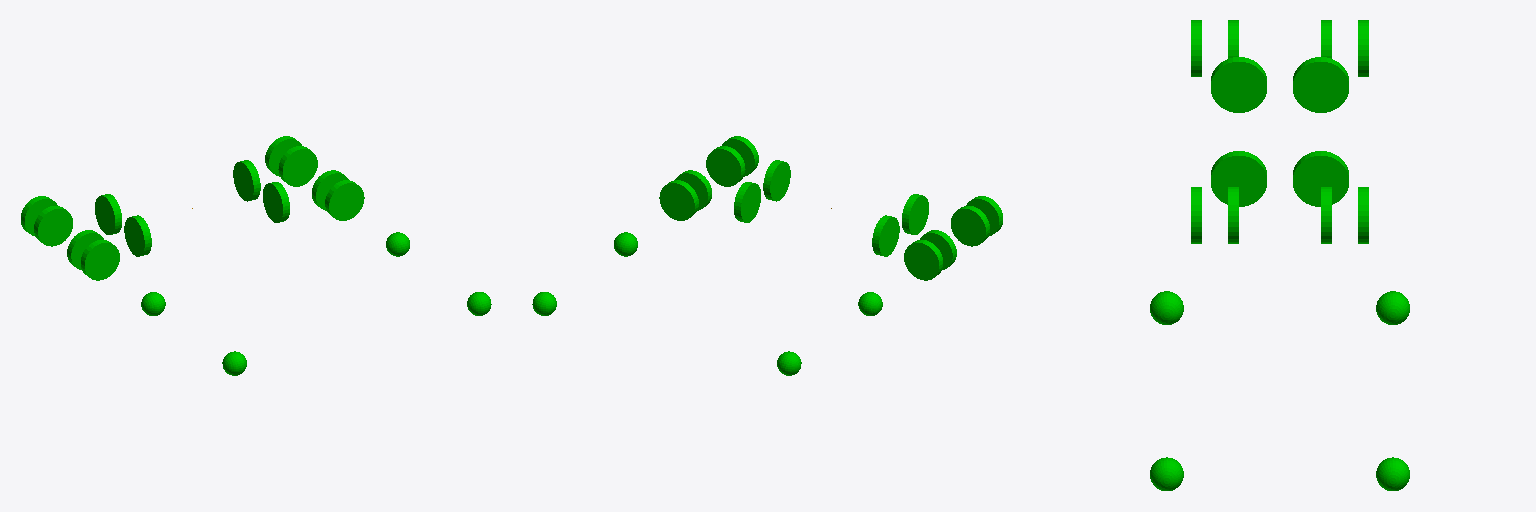
--- Render facts (derived) ---
3 views of the same robot in one strip: view 1: azimuth 30°, elevation 25°; view 2: azimuth 150°, elevation 25°; view 3: azimuth 270°, elevation 25° (orthographic).
Robot: b1_description — 36 links, 35 joints (12 revolute, 23 fixed); root link base; default pose: all joints at 0 but 4 set to mid-range because 0 is outside their limits (FR_calf_joint = -1.6, FL_calf_joint = -1.6, RR_calf_joint = -1.6, RL_calf_joint = -1.6).
Links seen in each view (by area): view 1: FR_calf_rotor, RR_calf_rotor, FL_thigh_rotor, RL_thigh_rotor, FL_hip_rotor, RR_hip_rotor, RL_hip_rotor, FR_hip_rotor, FL_calf_rotor, RR_thigh_rotor, FR_thigh_rotor, RL_calf_rotor; view 2: FL_calf_rotor, RL_calf_rotor, FR_thigh_rotor, RR_thigh_rotor, FR_hip_rotor, RL_hip_rotor, RR_hip_rotor, FL_hip_rotor, FR_calf_rotor, RL_thigh_rotor, FL_thigh_rotor, RR_calf_rotor; view 3: RR_hip_rotor, RL_hip_rotor, FR_hip_rotor, FL_hip_rotor, RR_foot, RL_foot, FR_foot, FL_foot, FR_thigh_rotor, FR_calf_rotor, FL_thigh_rotor, FL_calf_rotor (+2 smaller).
Boxes of the visible links, x1,y1,x2,y2 form: FR_calf_rotor: (325,180,364,220); RR_calf_rotor: (81,240,119,280); FL_thigh_rotor: (278,146,317,186); RL_thigh_rotor: (34,206,72,246); FL_hip_rotor: (233,160,260,201); RR_hip_rotor: (124,215,151,256); RL_hip_rotor: (95,194,121,234); FR_hip_rotor: (263,182,289,222); FL_calf_rotor: (265,136,301,176); RR_thigh_rotor: (67,230,103,269); FR_thigh_rotor: (312,170,348,210); RL_calf_rotor: (21,196,57,236); FL_calf_rotor: (659,180,698,220); RL_calf_rotor: (904,240,942,280); FR_thigh_rotor: (706,146,745,186); RR_thigh_rotor: (951,206,989,246); FR_hip_rotor: (763,160,790,201); RL_hip_rotor: (872,215,899,256); RR_hip_rotor: (902,194,928,234); FL_hip_rotor: (734,182,760,222); FR_calf_rotor: (722,136,758,176); RL_thigh_rotor: (920,230,956,269); FL_thigh_rotor: (675,170,711,210); RR_calf_rotor: (966,196,1002,236); RR_hip_rotor: (1211,57,1266,112); RL_hip_rotor: (1293,57,1348,112); FR_hip_rotor: (1211,151,1266,206); FL_hip_rotor: (1293,151,1348,206); RR_foot: (1150,291,1183,324); RL_foot: (1376,291,1409,324); FR_foot: (1150,457,1183,490); FL_foot: (1376,457,1409,490); FR_thigh_rotor: (1228,187,1238,243); FR_calf_rotor: (1191,187,1201,243); FL_thigh_rotor: (1321,187,1331,243); FL_calf_rotor: (1358,187,1368,243).
Bounding box of the posed robot: 1.12 × 0.4575 × 0.4198 m (x, y, z).
Meshes: 5 distinct files referenced, 0 mesh visuals loaded (none loaded); not drawn: 13 (reference not matched to a file when rendering).

The robot description file, URDF, robot "b1_description":
<?xml version="1.0" ?>
<!-- =================================================================================== -->
<!-- |    This document was autogenerated by xacro from robot.xacro                    | -->
<!-- |    EDITING THIS FILE BY HAND IS NOT RECOMMENDED                                 | -->
<!-- =================================================================================== -->
<robot name="b1_description">
  <material name="black">
    <color rgba="0.0 0.0 0.0 1.0"/>
  </material>
  <material name="blue">
    <color rgba="0.0 0.0 0.8 1.0"/>
  </material>
  <material name="green">
    <color rgba="0.0 0.8 0.0 1.0"/>
  </material>
  <material name="grey">
    <color rgba="0.2 0.2 0.2 1.0"/>
  </material>
  <material name="silver">
    <color rgba="0.9137254901960784 0.9137254901960784 0.8470588235294118 1.0"/>
  </material>
  <material name="orange">
    <color rgba="1.0 0.4235294117647059 0.0392156862745098 1.0"/>
  </material>
  <material name="brown">
    <color rgba="0.8705882352941177 0.8117647058823529 0.7647058823529411 1.0"/>
  </material>
  <material name="red">
    <color rgba="0.8 0.0 0.0 1.0"/>
  </material>
  <material name="white">
    <color rgba="1.0 1.0 1.0 1.0"/>
  </material>
  <!-- ros_control plugin -->
  <gazebo>
    <plugin filename="libgazebo_ros_control.so" name="gazebo_ros_control">
      <robotNamespace>/aliengo_gazebo</robotNamespace>
      <robotSimType>gazebo_ros_control/DefaultRobotHWSim</robotSimType>
    </plugin>
  </gazebo>
  <!-- Show the trajectory of trunk center. -->
  <gazebo>
    <plugin filename="libLinkPlot3DPlugin.so" name="3dplot">
      <frequency>10</frequency>
      <plot>
        <link>base</link>
        <pose>0 0 0 0 0 0</pose>
        <material>Gazebo/Yellow</material>
      </plot>
    </plugin>
  </gazebo>
  <!-- Show the trajectory of foot. You can add another trajectory about another foot. -->
  <!-- <gazebo>
        <plugin name="3dplot" filename="libLinkPlot3DPlugin.so">
            <frequency>100</frequency>
            <plot>
                <link>FL_foot</link>
                <pose>0 0 0 0 0 0</pose>
                <material>Gazebo/Green</material>
            </plot>
        </plugin>
    </gazebo> -->
  <gazebo>
    <plugin filename="libgazebo_ros_force.so" name="gazebo_ros_force">
      <bodyName>trunk</bodyName>
      <topicName>/apply_force/trunk</topicName>
    </plugin>
  </gazebo>
  <gazebo reference="imu_link">
    <gravity>true</gravity>
    <sensor name="imu_sensor" type="imu">
      <always_on>true</always_on>
      <update_rate>1000</update_rate>
      <visualize>true</visualize>
      <topic>__default_topic__</topic>
      <plugin filename="libgazebo_ros_imu_sensor.so" name="imu_plugin">
        <topicName>trunk_imu</topicName>
        <bodyName>imu_link</bodyName>
        <updateRateHZ>1000.0</updateRateHZ>
        <gaussianNoise>0.0</gaussianNoise>
        <xyzOffset>0 0 0</xyzOffset>
        <rpyOffset>0 0 0</rpyOffset>
        <frameName>imu_link</frameName>
      </plugin>
      <pose>0 0 0 0 0 0</pose>
    </sensor>
  </gazebo>
  <!-- Foot contacts. -->
  <gazebo reference="FR_calf">
    <sensor name="FR_foot_contact" type="contact">
      <update_rate>100</update_rate>
      <plugin filename="libunitreeFootContactPlugin.so" name="contactPlugin"/>
      <contact>
        <collision>FR_calf_fixed_joint_lump__FR_foot_collision_1</collision>
      </contact>
    </sensor>
  </gazebo>
  <gazebo reference="FL_calf">
    <sensor name="FL_foot_contact" type="contact">
      <update_rate>100</update_rate>
      <plugin filename="libunitreeFootContactPlugin.so" name="contactPlugin"/>
      <contact>
        <collision>FL_calf_fixed_joint_lump__FL_foot_collision_1</collision>
      </contact>
    </sensor>
  </gazebo>
  <gazebo reference="RR_calf">
    <sensor name="RR_foot_contact" type="contact">
      <update_rate>100</update_rate>
      <plugin filename="libunitreeFootContactPlugin.so" name="contactPlugin"/>
      <contact>
        <collision>RR_calf_fixed_joint_lump__RR_foot_collision_1</collision>
      </contact>
    </sensor>
  </gazebo>
  <gazebo reference="RL_calf">
    <sensor name="RL_foot_contact" type="contact">
      <update_rate>100</update_rate>
      <plugin filename="libunitreeFootContactPlugin.so" name="contactPlugin"/>
      <contact>
        <collision>RL_calf_fixed_joint_lump__RL_foot_collision_1</collision>
      </contact>
    </sensor>
  </gazebo>
  <!-- Visualization of Foot contacts. -->
  <gazebo reference="FR_foot">
    <visual>
      <plugin filename="libunitreeDrawForcePlugin.so" name="drawForcePlugin">
        <topicName>FR_foot_contact</topicName>
      </plugin>
    </visual>
  </gazebo>
  <gazebo reference="FL_foot">
    <visual>
      <plugin filename="libunitreeDrawForcePlugin.so" name="drawForcePlugin">
        <topicName>FL_foot_contact</topicName>
      </plugin>
    </visual>
  </gazebo>
  <gazebo reference="RR_foot">
    <visual>
      <plugin filename="libunitreeDrawForcePlugin.so" name="drawForcePlugin">
        <topicName>RR_foot_contact</topicName>
      </plugin>
    </visual>
  </gazebo>
  <gazebo reference="RL_foot">
    <visual>
      <plugin filename="libunitreeDrawForcePlugin.so" name="drawForcePlugin">
        <topicName>RL_foot_contact</topicName>
      </plugin>
    </visual>
  </gazebo>
  <gazebo reference="base">
    <material>Gazebo/Green</material>
    <turnGravityOff>false</turnGravityOff>
  </gazebo>
  <gazebo reference="trunk">
    <mu1>0.2</mu1>
    <mu2>0.2</mu2>
    <kp value="1000000.0"/>
    <kd value="1.0"/>
  </gazebo>
  <gazebo reference="stick_link">
    <mu1>0.2</mu1>
    <mu2>0.2</mu2>
    <material>Gazebo/White</material>
  </gazebo>
  <gazebo reference="imu_link">
    <mu1>0.2</mu1>
    <mu2>0.2</mu2>
    <material>Gazebo/Red</material>
  </gazebo>
  <!-- FL leg -->
  <gazebo reference="FL_hip">
    <mu1>0.2</mu1>
    <mu2>0.2</mu2>
    <material>Gazebo/DarkGrey</material>
  </gazebo>
  <gazebo reference="FL_thigh">
    <mu1>0.2</mu1>
    <mu2>0.2</mu2>
    <self_collide>1</self_collide>
    <material>Gazebo/DarkGrey</material>
    <kp value="1000000.0"/>
    <kd value="1.0"/>
  </gazebo>
  <gazebo reference="FL_calf">
    <mu1>0.2</mu1>
    <mu2>0.2</mu2>
    <self_collide>1</self_collide>
  </gazebo>
  <gazebo reference="FL_foot">
    <mu1>0.6</mu1>
    <mu2>0.6</mu2>
    <self_collide>1</self_collide>
    <material>Gazebo/DarkGrey</material>
    <kp value="1000000.0"/>
    <kd value="1.0"/>
  </gazebo>
  <!-- FR leg -->
  <gazebo reference="FR_hip">
    <mu1>0.2</mu1>
    <mu2>0.2</mu2>
    <material>Gazebo/DarkGrey</material>
  </gazebo>
  <gazebo reference="FR_thigh">
    <mu1>0.2</mu1>
    <mu2>0.2</mu2>
    <self_collide>1</self_collide>
    <material>Gazebo/DarkGrey</material>
    <kp value="1000000.0"/>
    <kd value="1.0"/>
  </gazebo>
  <gazebo reference="FR_calf">
    <mu1>0.2</mu1>
    <mu2>0.2</mu2>
    <self_collide>1</self_collide>
  </gazebo>
  <gazebo reference="FR_foot">
    <mu1>0.6</mu1>
    <mu2>0.6</mu2>
    <self_collide>1</self_collide>
    <material>Gazebo/DarkGrey</material>
    <kp value="1000000.0"/>
    <kd value="1.0"/>
  </gazebo>
  <!-- RL leg -->
  <gazebo reference="RL_hip">
    <mu1>0.2</mu1>
    <mu2>0.2</mu2>
    <material>Gazebo/DarkGrey</material>
  </gazebo>
  <gazebo reference="RL_thigh">
    <mu1>0.2</mu1>
    <mu2>0.2</mu2>
    <self_collide>1</self_collide>
    <material>Gazebo/DarkGrey</material>
    <kp value="1000000.0"/>
    <kd value="1.0"/>
  </gazebo>
  <gazebo reference="RL_calf">
    <mu1>0.2</mu1>
    <mu2>0.2</mu2>
    <self_collide>1</self_collide>
  </gazebo>
  <gazebo reference="RL_foot">
    <mu1>0.6</mu1>
    <mu2>0.6</mu2>
    <self_collide>1</self_collide>
    <material>Gazebo/DarkGrey</material>
    <kp value="1000000.0"/>
    <kd value="1.0"/>
  </gazebo>
  <!-- RR leg -->
  <gazebo reference="RR_hip">
    <mu1>0.2</mu1>
    <mu2>0.2</mu2>
    <material>Gazebo/DarkGrey</material>
  </gazebo>
  <gazebo reference="RR_thigh">
    <mu1>0.2</mu1>
    <mu2>0.2</mu2>
    <self_collide>1</self_collide>
    <material>Gazebo/DarkGrey</material>
    <kp value="1000000.0"/>
    <kd value="1.0"/>
  </gazebo>
  <gazebo reference="RR_calf">
    <mu1>0.2</mu1>
    <mu2>0.2</mu2>
    <self_collide>1</self_collide>
  </gazebo>
  <gazebo reference="RR_foot">
    <mu1>0.6</mu1>
    <mu2>0.6</mu2>
    <self_collide>1</self_collide>
    <material>Gazebo/DarkGrey</material>
    <kp value="1000000.0"/>
    <kd value="1.0"/>
  </gazebo>
  <!-- Rotor related joint and link is only for demonstrate location. -->
  <!-- Actually, the rotor will rotate and the joint is not fixed. Reduction ratio should be considered. -->
  <!-- Debug mode will hung up the robot, use "true" or "false" to switch it. -->
  <!-- <xacro:if value="$(arg DEBUG)">
        <link name="world"/>
        <joint name="base_static_joint" type="fixed">
            <origin rpy="0 0 0" xyz="0 0 0"/>
            <parent link="world"/>
            <child link="base"/>
        </joint>
    </xacro:if>  -->
  <link name="base">
    <visual>
      <origin rpy="0 0 0" xyz="0 0 0"/>
      <geometry>
        <box size="0.001 0.001 0.001"/>
      </geometry>
    </visual>
  </link>
  <joint name="floating_base" type="fixed">
    <origin rpy="0 0 0" xyz="0 0 0"/>
    <parent link="base"/>
    <child link="trunk"/>
  </joint>
  <link name="trunk">
    <visual>
      <origin rpy="0 0 0" xyz="0 0 0"/>
      <geometry>
        <mesh filename="package://meshes/trunkb.dae" scale="1 1 1"/>
      </geometry>
      <material name="orange"/>
    </visual>
    <collision>
      <origin rpy="0 0 0" xyz="0 0 0"/>
      <geometry>
        <mesh filename="package://meshes/trunkb.dae" scale="1 1 1"/>
      </geometry>
    </collision>
    <inertial>
      <origin rpy="0 0 0" xyz="0.008987 0.002243 0.003013"/>
      <mass value="29.45"/>
      <inertia ixx="0.183142146" ixy="-0.001379002" ixz="-0.027956055" iyy="0.756327752" iyz="0.000193774" izz="0.783777558"/>
    </inertial>
  </link>
  <joint name="imu_joint" type="fixed">
    <parent link="trunk"/>
    <child link="imu_link"/>
    <origin rpy="0 0 0" xyz="0 0 0"/>
  </joint>
  <link name="imu_link">
    <inertial>
      <mass value="0.001"/>
      <origin rpy="0 0 0" xyz="0 0 0"/>
      <inertia ixx="0.0001" ixy="0" ixz="0" iyy="0.000001" iyz="0" izz="0.0001"/>
    </inertial>
    <visual>
      <origin rpy="0 0 0" xyz="0 0 0"/>
      <geometry>
        <box size="0.001 0.001 0.001"/>
      </geometry>
      <material name="red"/>
    </visual>
    <collision>
      <origin rpy="0 0 0" xyz="0 0 0"/>
      <geometry>
        <box size=".001 .001 .001"/>
      </geometry>
    </collision>
  </link>

    <joint name="left_side_camera_joint" type="fixed">
	    <parent link="trunk"/>
	    <child link="left_side_camera_link"/>
	    <origin rpy="-0.331612 0 0" xyz="-0.1086 0.1371 -0.03077"/>
    </joint>

    <link name="left_side_camera_link">
        <inertial>
            <mass value="0.001"/>
            <origin rpy="0 0 0" xyz="0 0 0"/>
            <inertia ixx="0.0001" ixy="0" ixz="0" iyy="0.0001" iyz="0" izz="0.0001"/>
        </inertial>
    </link>

	    
    <joint name="right_side_camera_joint" type="fixed">
	    <parent link="trunk"/>
	    <child link="right_side_camera_link"/>
	    <origin rpy="0.331612 0 0" xyz="-0.10190 -0.1371 -0.03077"/>
    </joint>

    <link name="right_side_camera_link">
        <inertial>
            <mass value="0.001"/>
            <origin rpy="0 0 0" xyz="0 0 0"/>
            <inertia ixx="0.0001" ixy="0" ixz="0" iyy="0.0001" iyz="0" izz="0.0001"/>
        </inertial>
    </link>
-
    <joint name="head_camera_1_joint" type="fixed">
	    <parent link="trunk"/>
	    <child link="head_camera_1_link"/>
	    <origin rpy="0 0 0" xyz="0.48883 0 0.0255"/>
    </joint>

    <link name="head_camera_1_link">
        <inertial>
            <mass value="0.001"/>
            <origin rpy="0 0 0" xyz="0 0 0"/>
            <inertia ixx="0.0001" ixy="0" ixz="0" iyy="0.0001" iyz="0" izz="0.0001"/>
        </inertial>
    </link>

    <joint name="head_camera_2_joint" type="fixed">
	    <parent link="trunk"/>
	    <child link="head_camera_2_link"/>
	    <origin rpy="0 0 0" xyz="0.45430 0 -0.081"/>
    </joint>

    <link name="head_camera_2_link">
        <inertial>
            <mass value="0.001"/>
            <origin rpy="0 0 0" xyz="0 0 0"/>
            <inertia ixx="0.0001" ixy="0" ixz="0" iyy="0.0001" iyz="0" izz="0.0001"/>
        </inertial>
    </link>

    <joint name="tail_camera_joint" type="fixed">
	    <parent link="trunk"/>
	    <child link="tail_camera_link"/>
	    <origin rpy="0 0 0" xyz="-0.459 0 -0.081"/>
    </joint>

    <link name="tail_camera_link">
        <inertial>
            <mass value="0.001"/>
            <origin rpy="0 0 0" xyz="0 0 0"/>
            <inertia ixx="0.0001" ixy="0" ixz="0" iyy="0.0001" iyz="0" izz="0.0001"/>
        </inertial>
    </link>

  <joint name="FR_hip_joint" type="revolute">
    <origin rpy="0 0 0" xyz="0.3455 -0.072 0"/>
    <parent link="trunk"/>
    <child link="FR_hip"/>
    <axis xyz="1 0 0"/>
    <dynamics damping="0" friction="0"/>
    <limit effort="91.0035" lower="-0.75" upper="0.75" velocity="19.69"/>
  </joint>
  <joint name="FR_hip_rotor_joint" type="fixed">
    <origin rpy="0 0 0" xyz="0.1955 -0.072 0"/>
    <parent link="trunk"/>
    <child link="FR_hip_rotor"/>
  </joint>
  <link name="FR_hip">
    <visual>
      <origin rpy="3.141592653589793 0 0" xyz="0 0 0"/>
      <geometry>
        <mesh filename="package://meshes/hipb.dae" scale="1 1 1"/>
      </geometry>
      <material name="orange"/>
    </visual>
    <collision>
      <origin rpy="3.141592653589793 0 0" xyz="0 0 0"/>
      <geometry>
        <mesh filename="package://meshes/hipb.dae" scale="1 1 1"/>
      </geometry>
    </collision>
    <inertial>
      <origin rpy="0 0 0" xyz="-0.020298 -0.009758 0.000109"/>
      <mass value="2.15"/>
      <inertia ixx="0.00406608" ixy="0.000288071" ixz="-4.371e-06" iyy="0.008775259" iyz="-1.811e-06" izz="0.006060348"/>
    </inertial>
  </link>
  <link name="FR_hip_rotor">
    <visual>
      <origin rpy="0 1.5707963267948966 0" xyz="0 0 0"/>
      <geometry>
        <cylinder length="0.02" radius="0.05"/>
      </geometry>
      <material name="green"/>
    </visual>
    <collision>
      <origin rpy="0 1.5707963267948966 0" xyz="0 0 0"/>
      <geometry>
        <cylinder length="0.02" radius="0.05"/>
      </geometry>
    </collision>
    <inertial>
      <origin rpy="0 0 0" xyz="0.0 0.0 0.0"/>
      <mass value="0.199"/>
      <inertia ixx="0.00039249" ixy="0.0" ixz="0.0" iyy="0.000219397" iyz="0.0" izz="0.000219397"/>
    </inertial>
  </link>
  <joint name="FR_thigh_joint" type="revolute">
    <origin rpy="0 0 0" xyz="0 -0.12675 0"/>
    <parent link="FR_hip"/>
    <child link="FR_thigh"/>
    <axis xyz="0 1 0"/>
    <dynamics damping="0" friction="0"/>
    <limit effort="93.33" lower="-1.0" upper="3.5" velocity="23.32"/>
  </joint>
  <joint name="FR_thigh_rotor_joint" type="fixed">
    <origin rpy="0 0 0" xyz="0.0 -0.00935 0"/>
    <parent link="FR_hip"/>
    <child link="FR_thigh_rotor"/>
  </joint>
  <link name="FR_thigh">
    <visual>
      <origin rpy="0 0 0" xyz="0 0 0"/>
      <geometry>
        <mesh filename="package://meshes/thigh_mirrorb.dae" scale="1 1 1"/>
      </geometry>
      <material name="orange"/>
    </visual>
    <collision>
      <origin rpy="0 0 0" xyz="0 0 0"/>
      <geometry>
        <mesh filename="package://meshes/thigh_mirrorb.dae" scale="1 1 1"/>
      </geometry>
    </collision>
    <inertial>
      <origin rpy="0 0 0" xyz="-0.000235 0.028704 -0.054169"/>
      <mass value="4.3"/>
      <inertia ixx="0.044459086" ixy="-0.000128738" ixz="-0.002343913" iyy="0.046023457" iyz="-0.006032996" izz="0.008696078"/>
    </inertial>
  </link>
  <link name="FR_thigh_rotor">
    <visual>
      <origin rpy="1.5707963267948966 0 0" xyz="0 0 0"/>
      <geometry>
        <cylinder length="0.02" radius="0.05"/>
      </geometry>
      <material name="green"/>
    </visual>
    <collision>
      <origin rpy="1.5707963267948966 0 0" xyz="0 0 0"/>
      <geometry>
        <cylinder length="0.02" radius="0.05"/>
      </geometry>
    </collision>
    <inertial>
      <origin rpy="0 0 0" xyz="0.0 0.0 0.0"/>
      <mass value="0.266"/>
      <inertia ixx="0.000485657" ixy="0.0" ixz="0.0" iyy="0.00091885" iyz="0.0" izz="0.000485657"/>
    </inertial>
  </link>
  <joint name="FR_calf_joint" type="revolute">
    <origin rpy="0 0 0" xyz="0 0 -0.35"/>
    <parent link="FR_thigh"/>
    <child link="FR_calf"/>
    <axis xyz="0 1 0"/>
    <dynamics damping="0" friction="0"/>
    <limit effort="140" lower="-2.6" upper="-0.6" velocity="15.55"/>
  </joint>
  <joint name="FR_calf_rotor_joint" type="fixed">
    <origin rpy="0 0 0" xyz="0.0 0.0519 0"/>
    <parent link="FR_thigh"/>
    <child link="FR_calf_rotor"/>
  </joint>
  <link name="FR_calf">
    <visual>
      <origin rpy="0 0 0" xyz="0 0 0"/>
      <geometry>
        <mesh filename="package://meshes/calfb.dae" scale="1 1 1"/>
      </geometry>
      <material name="orange"/>
    </visual>
    <collision>
      <origin rpy="0 0 0" xyz="0 0 0"/>
      <geometry>
        <mesh filename="package://meshes/calfb.dae" scale="1 1 1"/>
      </geometry>
    </collision>
    <inertial>
      <origin rpy="0 0 0" xyz="0.005237 0.0 -0.202805"/>
      <mass value="1.05"/>
      <inertia ixx="0.015011003" ixy="5.2e-08" ixz="0.000250042" iyy="0.015159462" iyz="4.61e-07" izz="0.000375749"/>
    </inertial>
  </link>
  <link name="FR_calf_rotor">
    <visual>
      <origin rpy="1.5707963267948966 0 0" xyz="0 0 0"/>
      <geometry>
        <cylinder length="0.02" radius="0.05"/>
      </geometry>
      <material name="green"/>
    </visual>
    <collision>
      <origin rpy="1.5707963267948966 0 0" xyz="0 0 0"/>
      <geometry>
        <cylinder length="0.02" radius="0.05"/>
      </geometry>
    </collision>
    <inertial>
      <origin rpy="0 0 0" xyz="0.0 0.0 0.0"/>
      <mass value="0.266"/>
      <inertia ixx="0.000485657" ixy="0.0" ixz="0.0" iyy="0.00091885" iyz="0.0" izz="0.000485657"/>
    </inertial>
  </link>
  <joint name="FR_foot_fixed" type="fixed">
    <origin rpy="0 0 0" xyz="0 0 -0.35"/>
    <parent link="FR_calf"/>
    <child link="FR_foot"/>
  </joint>
  <link name="FR_foot">
    <visual>
      <origin rpy="0 0 0" xyz="0 0 0"/>
      <geometry>
        <sphere radius="0.03"/>
      </geometry>
      <material name="green"/>
    </visual>
    <collision>
      <origin rpy="0 0 0" xyz="0 0 0"/>
      <geometry>
        <sphere radius="0.04"/>
      </geometry>
    </collision>
    <inertial>
      <mass value="0.05"/>
      <inertia ixx="3.2000000000000005e-05" ixy="0.0" ixz="0.0" iyy="3.2000000000000005e-05" iyz="0.0" izz="3.2000000000000005e-05"/>
    </inertial>
  </link>
  <transmission name="FR_hip_tran">
    <type>transmission_interface/SimpleTransmission</type>
    <joint name="FR_hip_joint">
      <hardwareInterface>hardware_interface/EffortJointInterface</hardwareInterface>
    </joint>
    <actuator name="FR_hip_motor">
      <hardwareInterface>hardware_interface/EffortJointInterface</hardwareInterface>
      <mechanicalReduction>1</mechanicalReduction>
    </actuator>
  </transmission>
  <transmission name="FR_thigh_tran">
    <type>transmission_interface/SimpleTransmission</type>
    <joint name="FR_thigh_joint">
      <hardwareInterface>hardware_interface/EffortJointInterface</hardwareInterface>
    </joint>
    <actuator name="FR_thigh_motor">
      <hardwareInterface>hardware_interface/EffortJointInterface</hardwareInterface>
      <mechanicalReduction>1</mechanicalReduction>
    </actuator>
  </transmission>
  <transmission name="FR_calf_tran">
    <type>transmission_interface/SimpleTransmission</type>
    <joint name="FR_calf_joint">
      <hardwareInterface>hardware_interface/EffortJointInterface</hardwareInterface>
    </joint>
    <actuator name="FR_calf_motor">
      <hardwareInterface>hardware_interface/EffortJointInterface</hardwareInterface>
      <mechanicalReduction>1</mechanicalReduction>
    </actuator>
  </transmission>
  <joint name="FL_hip_joint" type="revolute">
    <origin rpy="0 0 0" xyz="0.3455 0.072 0"/>
    <parent link="trunk"/>
    <child link="FL_hip"/>
    <axis xyz="1 0 0"/>
    <dynamics damping="0" friction="0"/>
    <limit effort="91.0035" lower="-0.75" upper="0.75" velocity="19.69"/>
  </joint>
  <joint name="FL_hip_rotor_joint" type="fixed">
    <origin rpy="0 0 0" xyz="0.1955 0.072 0"/>
    <parent link="trunk"/>
    <child link="FL_hip_rotor"/>
  </joint>
  <link name="FL_hip">
    <visual>
      <origin rpy="0 0 0" xyz="0 0 0"/>
      <geometry>
        <mesh filename="package://meshes/hipb.dae" scale="1 1 1"/>
      </geometry>
      <material name="orange"/>
    </visual>
    <collision>
      <origin rpy="0 0 0" xyz="0 0 0"/>
      <geometry>
        <mesh filename="package://meshes/hipb.dae" scale="1 1 1"/>
      </geometry>
    </collision>
    <inertial>
      <origin rpy="0 0 0" xyz="-0.020298 0.009758 0.000109"/>
      <mass value="2.15"/>
      <inertia ixx="0.00406608" ixy="-0.000288071" ixz="-4.371e-06" iyy="0.008775259" iyz="1.811e-06" izz="0.006060348"/>
    </inertial>
  </link>
  <link name="FL_hip_rotor">
    <visual>
      <origin rpy="0 1.5707963267948966 0" xyz="0 0 0"/>
      <geometry>
        <cylinder length="0.02" radius="0.05"/>
      </geometry>
      <material name="green"/>
    </visual>
    <collision>
      <origin rpy="0 1.5707963267948966 0" xyz="0 0 0"/>
      <geometry>
        <cylinder length="0.02" radius="0.05"/>
      </geometry>
    </collision>
    <inertial>
      <origin rpy="0 0 0" xyz="0.0 0.0 0.0"/>
      <mass value="0.199"/>
      <inertia ixx="0.00039249" ixy="0.0" ixz="0.0" iyy="0.000219397" iyz="0.0" izz="0.000219397"/>
    </inertial>
  </link>
  <joint name="FL_thigh_joint" type="revolute">
    <origin rpy="0 0 0" xyz="0 0.12675 0"/>
    <parent link="FL_hip"/>
    <child link="FL_thigh"/>
    <axis xyz="0 1 0"/>
    <dynamics damping="0" friction="0"/>
    <limit effort="93.33" lower="-1.0" upper="3.5" velocity="23.32"/>
  </joint>
  <joint name="FL_thigh_rotor_joint" type="fixed">
    <origin rpy="0 0 0" xyz="0.0 0.00935 0"/>
    <parent link="FL_hip"/>
    <child link="FL_thigh_rotor"/>
  </joint>
  <link name="FL_thigh">
    <visual>
      <origin rpy="0 0 0" xyz="0 0 0"/>
      <geometry>
        <mesh filename="package://meshes/thighb.dae" scale="1 1 1"/>
      </geometry>
      <material name="orange"/>
    </visual>
    <collision>
      <origin rpy="0 0 0" xyz="0 0 0"/>
      <geometry>
        <mesh filename="package://meshes/thighb.dae" scale="1 1 1"/>
      </geometry>
    </collision>
    <inertial>
      <origin rpy="0 0 0" xyz="-0.000235 -0.028704 -0.054169"/>
      <mass value="4.3"/>
      <inertia ixx="0.044459086" ixy="0.000128738" ixz="-0.002343913" iyy="0.046023457" iyz="0.006032996" izz="0.008696078"/>
    </inertial>
  </link>
  <link name="FL_thigh_rotor">
    <visual>
      <origin rpy="1.5707963267948966 0 0" xyz="0 0 0"/>
      <geometry>
        <cylinder length="0.02" radius="0.05"/>
      </geometry>
      <material name="green"/>
    </visual>
    <collision>
      <origin rpy="1.5707963267948966 0 0" xyz="0 0 0"/>
      <geometry>
        <cylinder length="0.02" radius="0.05"/>
      </geometry>
    </collision>
    <inertial>
      <origin rpy="0 0 0" xyz="0.0 0.0 0.0"/>
      <mass value="0.266"/>
      <inertia ixx="0.000485657" ixy="0.0" ixz="0.0" iyy="0.00091885" iyz="0.0" izz="0.000485657"/>
    </inertial>
  </link>
  <joint name="FL_calf_joint" type="revolute">
    <origin rpy="0 0 0" xyz="0 0 -0.35"/>
    <parent link="FL_thigh"/>
    <child link="FL_calf"/>
    <axis xyz="0 1 0"/>
    <dynamics damping="0" friction="0"/>
    <limit effort="140" lower="-2.6" upper="-0.6" velocity="15.55"/>
  </joint>
  <joint name="FL_calf_rotor_joint" type="fixed">
    <origin rpy="0 0 0" xyz="0.0 -0.0519 0"/>
    <parent link="FL_thigh"/>
    <child link="FL_calf_rotor"/>
  </joint>
  <link name="FL_calf">
    <visual>
      <origin rpy="0 0 0" xyz="0 0 0"/>
      <geometry>
        <mesh filename="package://meshes/calfb.dae" scale="1 1 1"/>
      </geometry>
      <material name="orange"/>
    </visual>
    <collision>
      <origin rpy="0 0 0" xyz="0 0 0"/>
      <geometry>
        <mesh filename="package://meshes/calfb.dae" scale="1 1 1"/>
      </geometry>
    </collision>
    <inertial>
      <origin rpy="0 0 0" xyz="0.005237 0.0 -0.202805"/>
      <mass value="1.05"/>
      <inertia ixx="0.015011003" ixy="5.2e-08" ixz="0.000250042" iyy="0.015159462" iyz="4.61e-07" izz="0.000375749"/>
    </inertial>
  </link>
  <link name="FL_calf_rotor">
    <visual>
      <origin rpy="1.5707963267948966 0 0" xyz="0 0 0"/>
      <geometry>
        <cylinder length="0.02" radius="0.05"/>
      </geometry>
      <material name="green"/>
    </visual>
    <collision>
      <origin rpy="1.5707963267948966 0 0" xyz="0 0 0"/>
      <geometry>
        <cylinder length="0.02" radius="0.05"/>
      </geometry>
    </collision>
    <inertial>
      <origin rpy="0 0 0" xyz="0.0 0.0 0.0"/>
      <mass value="0.266"/>
      <inertia ixx="0.000485657" ixy="0.0" ixz="0.0" iyy="0.00091885" iyz="0.0" izz="0.000485657"/>
    </inertial>
  </link>
  <joint name="FL_foot_fixed" type="fixed">
    <origin rpy="0 0 0" xyz="0 0 -0.35"/>
    <parent link="FL_calf"/>
    <child link="FL_foot"/>
  </joint>
  <link name="FL_foot">
    <visual>
      <origin rpy="0 0 0" xyz="0 0 0"/>
      <geometry>
        <sphere radius="0.03"/>
      </geometry>
      <material name="green"/>
    </visual>
    <collision>
      <origin rpy="0 0 0" xyz="0 0 0"/>
      <geometry>
        <sphere radius="0.04"/>
      </geometry>
    </collision>
    <inertial>
      <mass value="0.05"/>
      <inertia ixx="3.2000000000000005e-05" ixy="0.0" ixz="0.0" iyy="3.2000000000000005e-05" iyz="0.0" izz="3.2000000000000005e-05"/>
    </inertial>
  </link>
  <transmission name="FL_hip_tran">
    <type>transmission_interface/SimpleTransmission</type>
    <joint name="FL_hip_joint">
      <hardwareInterface>hardware_interface/EffortJointInterface</hardwareInterface>
    </joint>
    <actuator name="FL_hip_motor">
      <hardwareInterface>hardware_interface/EffortJointInterface</hardwareInterface>
      <mechanicalReduction>1</mechanicalReduction>
    </actuator>
  </transmission>
  <transmission name="FL_thigh_tran">
    <type>transmission_interface/SimpleTransmission</type>
    <joint name="FL_thigh_joint">
      <hardwareInterface>hardware_interface/EffortJointInterface</hardwareInterface>
    </joint>
    <actuator name="FL_thigh_motor">
      <hardwareInterface>hardware_interface/EffortJointInterface</hardwareInterface>
      <mechanicalReduction>1</mechanicalReduction>
    </actuator>
  </transmission>
  <transmission name="FL_calf_tran">
    <type>transmission_interface/SimpleTransmission</type>
    <joint name="FL_calf_joint">
      <hardwareInterface>hardware_interface/EffortJointInterface</hardwareInterface>
    </joint>
    <actuator name="FL_calf_motor">
      <hardwareInterface>hardware_interface/EffortJointInterface</hardwareInterface>
      <mechanicalReduction>1</mechanicalReduction>
    </actuator>
  </transmission>
  <joint name="RR_hip_joint" type="revolute">
    <origin rpy="0 0 0" xyz="-0.3455 -0.072 0"/>
    <parent link="trunk"/>
    <child link="RR_hip"/>
    <axis xyz="1 0 0"/>
    <dynamics damping="0" friction="0"/>
    <limit effort="91.0035" lower="-0.75" upper="0.75" velocity="19.69"/>
  </joint>
  <joint name="RR_hip_rotor_joint" type="fixed">
    <origin rpy="0 0 0" xyz="-0.1955 -0.072 0"/>
    <parent link="trunk"/>
    <child link="RR_hip_rotor"/>
  </joint>
  <link name="RR_hip">
    <visual>
      <origin rpy="3.141592653589793 3.141592653589793 0" xyz="0 0 0"/>
      <geometry>
        <mesh filename="package://meshes/hipb.dae" scale="1 1 1"/>
      </geometry>
      <material name="orange"/>
    </visual>
    <collision>
      <origin rpy="3.141592653589793 3.141592653589793 0" xyz="0 0 0"/>
      <geometry>
        <mesh filename="package://meshes/hipb.dae" scale="1 1 1"/>
      </geometry>
    </collision>
    <inertial>
      <origin rpy="0 0 0" xyz="0.020298 -0.009758 0.000109"/>
      <mass value="2.15"/>
      <inertia ixx="0.00406608" ixy="-0.000288071" ixz="4.371e-06" iyy="0.008775259" iyz="-1.811e-06" izz="0.006060348"/>
    </inertial>
  </link>
  <link name="RR_hip_rotor">
    <visual>
      <origin rpy="0 1.5707963267948966 0" xyz="0 0 0"/>
      <geometry>
        <cylinder length="0.02" radius="0.05"/>
      </geometry>
      <material name="green"/>
    </visual>
    <collision>
      <origin rpy="0 1.5707963267948966 0" xyz="0 0 0"/>
      <geometry>
        <cylinder length="0.02" radius="0.05"/>
      </geometry>
    </collision>
    <inertial>
      <origin rpy="0 0 0" xyz="0.0 0.0 0.0"/>
      <mass value="0.199"/>
      <inertia ixx="0.00039249" ixy="0.0" ixz="0.0" iyy="0.000219397" iyz="0.0" izz="0.000219397"/>
    </inertial>
  </link>
  <joint name="RR_thigh_joint" type="revolute">
    <origin rpy="0 0 0" xyz="0 -0.12675 0"/>
    <parent link="RR_hip"/>
    <child link="RR_thigh"/>
    <axis xyz="0 1 0"/>
    <dynamics damping="0" friction="0"/>
    <limit effort="93.33" lower="-1.0" upper="3.5" velocity="23.32"/>
  </joint>
  <joint name="RR_thigh_rotor_joint" type="fixed">
    <origin rpy="0 0 0" xyz="0.0 -0.00935 0"/>
    <parent link="RR_hip"/>
    <child link="RR_thigh_rotor"/>
  </joint>
  <link name="RR_thigh">
    <visual>
      <origin rpy="0 0 0" xyz="0 0 0"/>
      <geometry>
        <mesh filename="package://meshes/thigh_mirrorb.dae" scale="1 1 1"/>
      </geometry>
      <material name="orange"/>
    </visual>
    <collision>
      <origin rpy="0 0 0" xyz="0 0 0"/>
      <geometry>
        <mesh filename="package://meshes/thigh_mirrorb.dae" scale="1 1 1"/>
      </geometry>
    </collision>
    <inertial>
      <origin rpy="0 0 0" xyz="-0.000235 0.028704 -0.054169"/>
      <mass value="4.3"/>
      <inertia ixx="0.044459086" ixy="-0.000128738" ixz="-0.002343913" iyy="0.046023457" iyz="-0.006032996" izz="0.008696078"/>
    </inertial>
  </link>
  <link name="RR_thigh_rotor">
    <visual>
      <origin rpy="1.5707963267948966 0 0" xyz="0 0 0"/>
      <geometry>
        <cylinder length="0.02" radius="0.05"/>
      </geometry>
      <material name="green"/>
    </visual>
    <collision>
      <origin rpy="1.5707963267948966 0 0" xyz="0 0 0"/>
      <geometry>
        <cylinder length="0.02" radius="0.05"/>
      </geometry>
    </collision>
    <inertial>
      <origin rpy="0 0 0" xyz="0.0 0.0 0.0"/>
      <mass value="0.266"/>
      <inertia ixx="0.000485657" ixy="0.0" ixz="0.0" iyy="0.00091885" iyz="0.0" izz="0.000485657"/>
    </inertial>
  </link>
  <joint name="RR_calf_joint" type="revolute">
    <origin rpy="0 0 0" xyz="0 0 -0.35"/>
    <parent link="RR_thigh"/>
    <child link="RR_calf"/>
    <axis xyz="0 1 0"/>
    <dynamics damping="0" friction="0"/>
    <limit effort="140" lower="-2.6" upper="-0.6" velocity="15.55"/>
  </joint>
  <joint name="RR_calf_rotor_joint" type="fixed">
    <origin rpy="0 0 0" xyz="0.0 0.0519 0"/>
    <parent link="RR_thigh"/>
    <child link="RR_calf_rotor"/>
  </joint>
  <link name="RR_calf">
    <visual>
      <origin rpy="0 0 0" xyz="0 0 0"/>
      <geometry>
        <mesh filename="package://meshes/calfb.dae" scale="1 1 1"/>
      </geometry>
      <material name="orange"/>
    </visual>
    <collision>
      <origin rpy="0 0 0" xyz="0 0 0"/>
      <geometry>
        <mesh filename="package://meshes/calfb.dae" scale="1 1 1"/>
      </geometry>
    </collision>
    <inertial>
      <origin rpy="0 0 0" xyz="0.005237 0.0 -0.202805"/>
      <mass value="1.05"/>
      <inertia ixx="0.015011003" ixy="5.2e-08" ixz="0.000250042" iyy="0.015159462" iyz="4.61e-07" izz="0.000375749"/>
    </inertial>
  </link>
  <link name="RR_calf_rotor">
    <visual>
      <origin rpy="1.5707963267948966 0 0" xyz="0 0 0"/>
      <geometry>
        <cylinder length="0.02" radius="0.05"/>
      </geometry>
      <material name="green"/>
    </visual>
    <collision>
      <origin rpy="1.5707963267948966 0 0" xyz="0 0 0"/>
      <geometry>
        <cylinder length="0.02" radius="0.05"/>
      </geometry>
    </collision>
    <inertial>
      <origin rpy="0 0 0" xyz="0.0 0.0 0.0"/>
      <mass value="0.266"/>
      <inertia ixx="0.000485657" ixy="0.0" ixz="0.0" iyy="0.00091885" iyz="0.0" izz="0.000485657"/>
    </inertial>
  </link>
  <joint name="RR_foot_fixed" type="fixed">
    <origin rpy="0 0 0" xyz="0 0 -0.35"/>
    <parent link="RR_calf"/>
    <child link="RR_foot"/>
  </joint>
  <link name="RR_foot">
    <visual>
      <origin rpy="0 0 0" xyz="0 0 0"/>
      <geometry>
        <sphere radius="0.03"/>
      </geometry>
      <material name="green"/>
    </visual>
    <collision>
      <origin rpy="0 0 0" xyz="0 0 0"/>
      <geometry>
        <sphere radius="0.04"/>
      </geometry>
    </collision>
    <inertial>
      <mass value="0.05"/>
      <inertia ixx="3.2000000000000005e-05" ixy="0.0" ixz="0.0" iyy="3.2000000000000005e-05" iyz="0.0" izz="3.2000000000000005e-05"/>
    </inertial>
  </link>
  <transmission name="RR_hip_tran">
    <type>transmission_interface/SimpleTransmission</type>
    <joint name="RR_hip_joint">
      <hardwareInterface>hardware_interface/EffortJointInterface</hardwareInterface>
    </joint>
    <actuator name="RR_hip_motor">
      <hardwareInterface>hardware_interface/EffortJointInterface</hardwareInterface>
      <mechanicalReduction>1</mechanicalReduction>
    </actuator>
  </transmission>
  <transmission name="RR_thigh_tran">
    <type>transmission_interface/SimpleTransmission</type>
    <joint name="RR_thigh_joint">
      <hardwareInterface>hardware_interface/EffortJointInterface</hardwareInterface>
    </joint>
    <actuator name="RR_thigh_motor">
      <hardwareInterface>hardware_interface/EffortJointInterface</hardwareInterface>
      <mechanicalReduction>1</mechanicalReduction>
    </actuator>
  </transmission>
  <transmission name="RR_calf_tran">
    <type>transmission_interface/SimpleTransmission</type>
    <joint name="RR_calf_joint">
      <hardwareInterface>hardware_interface/EffortJointInterface</hardwareInterface>
    </joint>
    <actuator name="RR_calf_motor">
      <hardwareInterface>hardware_interface/EffortJointInterface</hardwareInterface>
      <mechanicalReduction>1</mechanicalReduction>
    </actuator>
  </transmission>
  <joint name="RL_hip_joint" type="revolute">
    <origin rpy="0 0 0" xyz="-0.3455 0.072 0"/>
    <parent link="trunk"/>
    <child link="RL_hip"/>
    <axis xyz="1 0 0"/>
    <dynamics damping="0" friction="0"/>
    <limit effort="91.0035" lower="-0.75" upper="0.75" velocity="19.69"/>
  </joint>
  <joint name="RL_hip_rotor_joint" type="fixed">
    <origin rpy="0 0 0" xyz="-0.1955 0.072 0"/>
    <parent link="trunk"/>
    <child link="RL_hip_rotor"/>
  </joint>
  <link name="RL_hip">
    <visual>
      <origin rpy="0 3.141592653589793 0" xyz="0 0 0"/>
      <geometry>
        <mesh filename="package://meshes/hipb.dae" scale="1 1 1"/>
      </geometry>
      <material name="orange"/>
    </visual>
    <collision>
      <origin rpy="0 3.141592653589793 0" xyz="0 0 0"/>
      <geometry>
        <mesh filename="package://meshes/hipb.dae" scale="1 1 1"/>
      </geometry>
    </collision>
    <inertial>
      <origin rpy="0 0 0" xyz="0.020298 0.009758 0.000109"/>
      <mass value="2.15"/>
      <inertia ixx="0.00406608" ixy="0.000288071" ixz="4.371e-06" iyy="0.008775259" iyz="1.811e-06" izz="0.006060348"/>
    </inertial>
  </link>
  <link name="RL_hip_rotor">
    <visual>
      <origin rpy="0 1.5707963267948966 0" xyz="0 0 0"/>
      <geometry>
        <cylinder length="0.02" radius="0.05"/>
      </geometry>
      <material name="green"/>
    </visual>
    <collision>
      <origin rpy="0 1.5707963267948966 0" xyz="0 0 0"/>
      <geometry>
        <cylinder length="0.02" radius="0.05"/>
      </geometry>
    </collision>
    <inertial>
      <origin rpy="0 0 0" xyz="0.0 0.0 0.0"/>
      <mass value="0.199"/>
      <inertia ixx="0.00039249" ixy="0.0" ixz="0.0" iyy="0.000219397" iyz="0.0" izz="0.000219397"/>
    </inertial>
  </link>
  <joint name="RL_thigh_joint" type="revolute">
    <origin rpy="0 0 0" xyz="0 0.12675 0"/>
    <parent link="RL_hip"/>
    <child link="RL_thigh"/>
    <axis xyz="0 1 0"/>
    <dynamics damping="0" friction="0"/>
    <limit effort="93.33" lower="-1.0" upper="3.5" velocity="23.32"/>
  </joint>
  <joint name="RL_thigh_rotor_joint" type="fixed">
    <origin rpy="0 0 0" xyz="0.0 0.00935 0"/>
    <parent link="RL_hip"/>
    <child link="RL_thigh_rotor"/>
  </joint>
  <link name="RL_thigh">
    <visual>
      <origin rpy="0 0 0" xyz="0 0 0"/>
      <geometry>
        <mesh filename="package://meshes/thighb.dae" scale="1 1 1"/>
      </geometry>
      <material name="orange"/>
    </visual>
    <collision>
      <origin rpy="0 0 0" xyz="0 0 0"/>
      <geometry>
        <mesh filename="package://meshes/thighb.dae" scale="1 1 1"/>
      </geometry>
    </collision>
    <inertial>
      <origin rpy="0 0 0" xyz="-0.000235 -0.028704 -0.054169"/>
      <mass value="4.3"/>
      <inertia ixx="0.044459086" ixy="0.000128738" ixz="-0.002343913" iyy="0.046023457" iyz="0.006032996" izz="0.008696078"/>
    </inertial>
  </link>
  <link name="RL_thigh_rotor">
    <visual>
      <origin rpy="1.5707963267948966 0 0" xyz="0 0 0"/>
      <geometry>
        <cylinder length="0.02" radius="0.05"/>
      </geometry>
      <material name="green"/>
    </visual>
    <collision>
      <origin rpy="1.5707963267948966 0 0" xyz="0 0 0"/>
      <geometry>
        <cylinder length="0.02" radius="0.05"/>
      </geometry>
    </collision>
    <inertial>
      <origin rpy="0 0 0" xyz="0.0 0.0 0.0"/>
      <mass value="0.266"/>
      <inertia ixx="0.000485657" ixy="0.0" ixz="0.0" iyy="0.00091885" iyz="0.0" izz="0.000485657"/>
    </inertial>
  </link>
  <joint name="RL_calf_joint" type="revolute">
    <origin rpy="0 0 0" xyz="0 0 -0.35"/>
    <parent link="RL_thigh"/>
    <child link="RL_calf"/>
    <axis xyz="0 1 0"/>
    <dynamics damping="0" friction="0"/>
    <limit effort="140" lower="-2.6" upper="-0.6" velocity="15.55"/>
  </joint>
  <joint name="RL_calf_rotor_joint" type="fixed">
    <origin rpy="0 0 0" xyz="0.0 -0.0519 0"/>
    <parent link="RL_thigh"/>
    <child link="RL_calf_rotor"/>
  </joint>
  <link name="RL_calf">
    <visual>
      <origin rpy="0 0 0" xyz="0 0 0"/>
      <geometry>
        <mesh filename="package://meshes/calfb.dae" scale="1 1 1"/>
      </geometry>
      <material name="orange"/>
    </visual>
    <collision>
      <origin rpy="0 0 0" xyz="0 0 0"/>
      <geometry>
        <mesh filename="package://meshes/calfb.dae" scale="1 1 1"/>
      </geometry>
    </collision>
    <inertial>
      <origin rpy="0 0 0" xyz="0.005237 0.0 -0.202805"/>
      <mass value="1.05"/>
      <inertia ixx="0.015011003" ixy="5.2e-08" ixz="0.000250042" iyy="0.015159462" iyz="4.61e-07" izz="0.000375749"/>
    </inertial>
  </link>
  <link name="RL_calf_rotor">
    <visual>
      <origin rpy="1.5707963267948966 0 0" xyz="0 0 0"/>
      <geometry>
        <cylinder length="0.02" radius="0.05"/>
      </geometry>
      <material name="green"/>
    </visual>
    <collision>
      <origin rpy="1.5707963267948966 0 0" xyz="0 0 0"/>
      <geometry>
        <cylinder length="0.02" radius="0.05"/>
      </geometry>
    </collision>
    <inertial>
      <origin rpy="0 0 0" xyz="0.0 0.0 0.0"/>
      <mass value="0.266"/>
      <inertia ixx="0.000485657" ixy="0.0" ixz="0.0" iyy="0.00091885" iyz="0.0" izz="0.000485657"/>
    </inertial>
  </link>
  <joint name="RL_foot_fixed" type="fixed">
    <origin rpy="0 0 0" xyz="0 0 -0.35"/>
    <parent link="RL_calf"/>
    <child link="RL_foot"/>
  </joint>
  <link name="RL_foot">
    <visual>
      <origin rpy="0 0 0" xyz="0 0 0"/>
      <geometry>
        <sphere radius="0.03"/>
      </geometry>
      <material name="green"/>
    </visual>
    <collision>
      <origin rpy="0 0 0" xyz="0 0 0"/>
      <geometry>
        <sphere radius="0.04"/>
      </geometry>
    </collision>
    <inertial>
      <mass value="0.05"/>
      <inertia ixx="3.2000000000000005e-05" ixy="0.0" ixz="0.0" iyy="3.2000000000000005e-05" iyz="0.0" izz="3.2000000000000005e-05"/>
    </inertial>
  </link>
  <transmission name="RL_hip_tran">
    <type>transmission_interface/SimpleTransmission</type>
    <joint name="RL_hip_joint">
      <hardwareInterface>hardware_interface/EffortJointInterface</hardwareInterface>
    </joint>
    <actuator name="RL_hip_motor">
      <hardwareInterface>hardware_interface/EffortJointInterface</hardwareInterface>
      <mechanicalReduction>1</mechanicalReduction>
    </actuator>
  </transmission>
  <transmission name="RL_thigh_tran">
    <type>transmission_interface/SimpleTransmission</type>
    <joint name="RL_thigh_joint">
      <hardwareInterface>hardware_interface/EffortJointInterface</hardwareInterface>
    </joint>
    <actuator name="RL_thigh_motor">
      <hardwareInterface>hardware_interface/EffortJointInterface</hardwareInterface>
      <mechanicalReduction>1</mechanicalReduction>
    </actuator>
  </transmission>
  <transmission name="RL_calf_tran">
    <type>transmission_interface/SimpleTransmission</type>
    <joint name="RL_calf_joint">
      <hardwareInterface>hardware_interface/EffortJointInterface</hardwareInterface>
    </joint>
    <actuator name="RL_calf_motor">
      <hardwareInterface>hardware_interface/EffortJointInterface</hardwareInterface>
      <mechanicalReduction>1</mechanicalReduction>
    </actuator>
  </transmission>
  <!-- <xacro:stairs stairs="15" xpos="0" ypos="2.0" zpos="0" /> -->
</robot>
